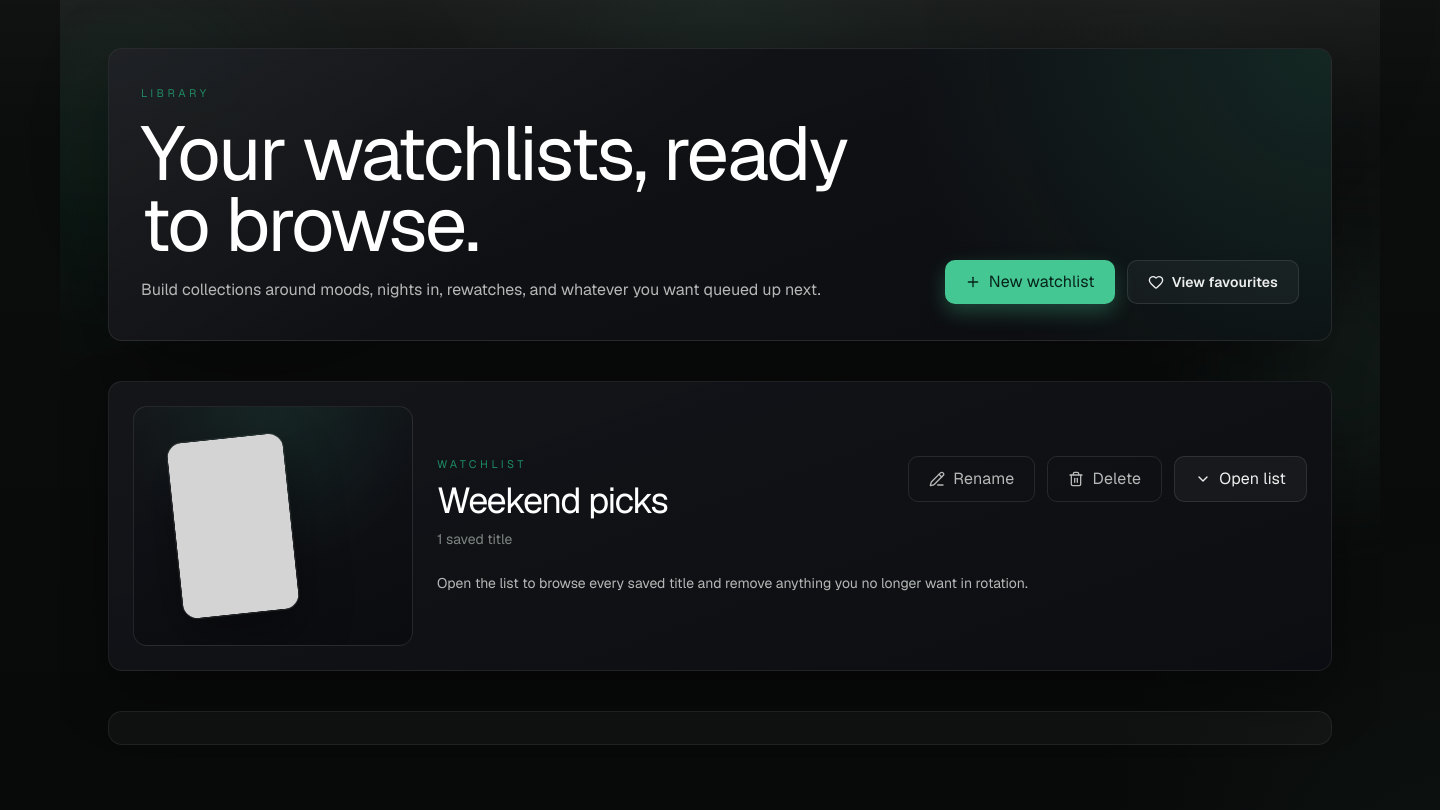
Test: WatchlistsPage › renders watchlists and expands inline items
Expected: the heading "Weekend picks" is shown, [437,481,668,521]
Click the button "Open list" at (1241, 479), box [1174,456,1307,502]
(page scrolled)
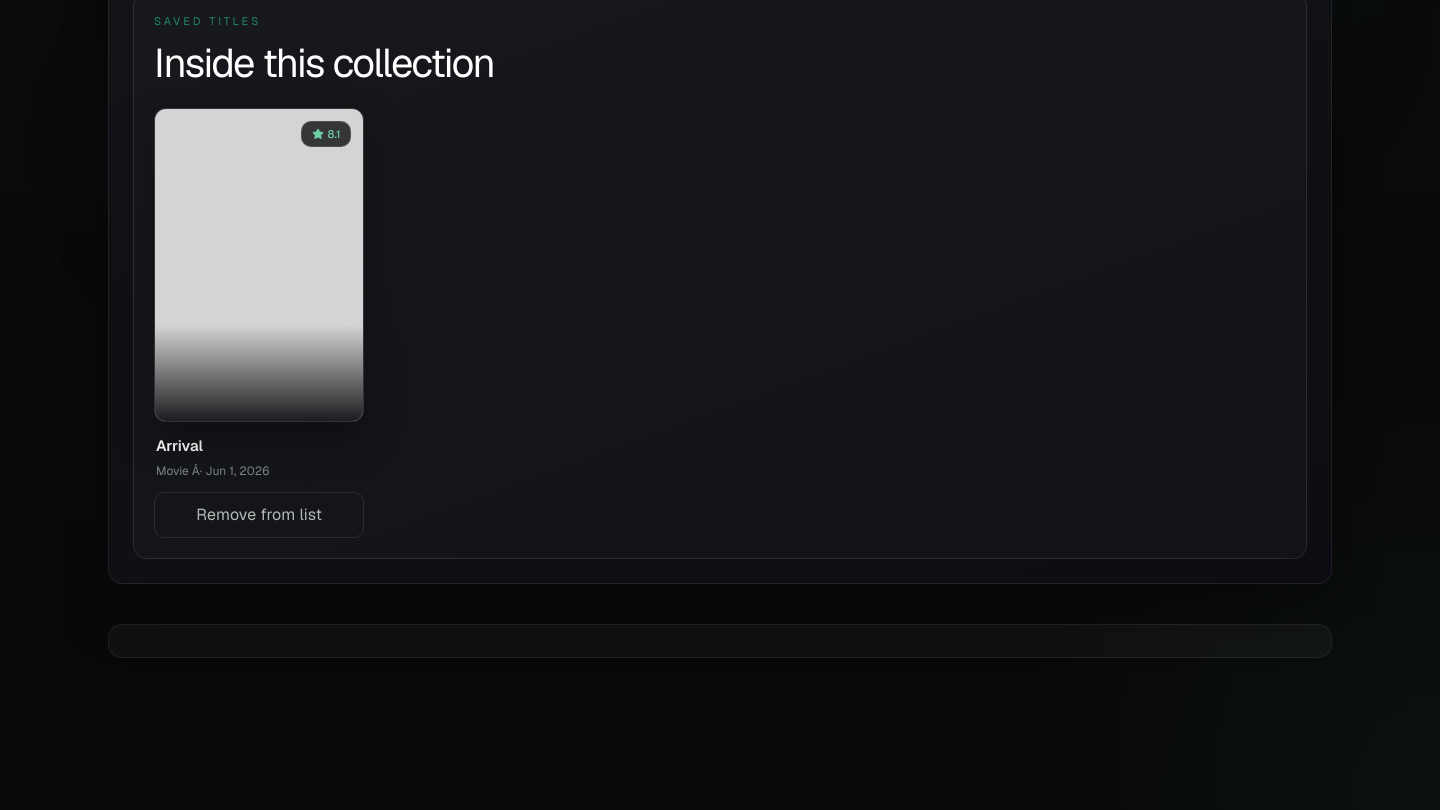
Expected: the text "Arrival" is shown, [156,436,203,456]
Expected: the button "Remove from list" is shown, [154,492,364,538]
